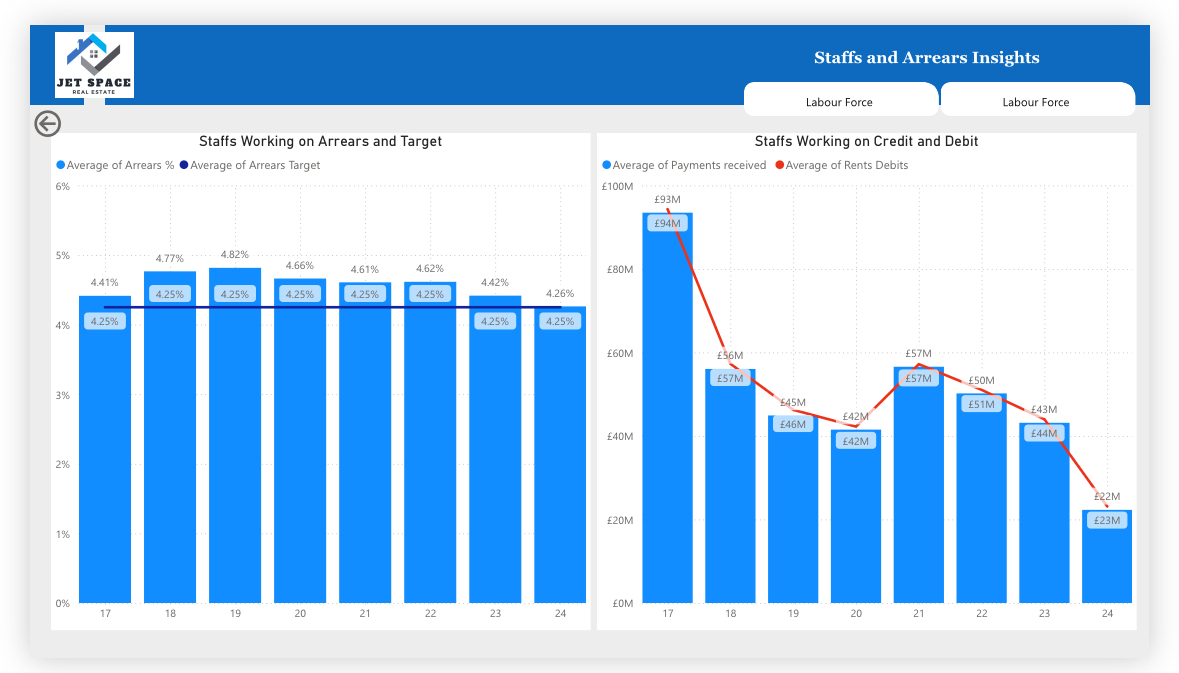

The page's visual inventory and layout, read from the dashboard file:
{"tool":"powerbi","page":{"name":"Insights","canvas":[1280,720],"ordinal":2},"visuals":[{"type":"shape","box":[84.5,0,1195.5,91.6],"z":0},{"type":"textbox","box":[893.4,21.4,372.3,48.8],"z":1000},{"type":"pageNavigator","box":[816.1,66.6,449.7,39.3],"z":2000},{"type":"shape","box":[0,0,61.9,91.6],"z":3000},{"type":"image","box":[22.6,0,99.9,91.6],"z":4000},{"type":"lineStackedColumnComboChart","title":"Staffs Working on Arrears and Target","fields":{"Y":["Avg(JetSpace.Arrears %)"],"Category":["JetSpace.Staff working on arrears"],"Y2":["Avg(JetSpace.Arrears Target )"]},"box":[22.6,123.7,617.4,568.6],"z":5000},{"type":"actionButton","box":[0,91.6,99.9,40.4],"z":6000},{"type":"lineStackedColumnComboChart","title":"Staffs Working on Credit and Debit","fields":{"Category":["JetSpace.Staff working on arrears"],"Y":["Avg(JetSpace.Payments received )"],"Y2":["Avg(JetSpace.Rents Debits)"]},"box":[648.3,123.7,617.4,568.6],"z":7000}]}

Visuals, with their boxes in screenshot pixels (x1, y1, x2, y2), scaled from the page's 1280x720 canvas onto the 1179x673 screenshot:
shape: 78, 0, 1178, 86
textbox: 823, 20, 1166, 66
pageNavigator: 752, 62, 1166, 99
shape: 0, 0, 57, 86
image: 21, 0, 113, 86
"Staffs Working on Arrears and Target" lineStackedColumnComboChart: 21, 116, 590, 647
actionButton: 0, 86, 92, 123
"Staffs Working on Credit and Debit" lineStackedColumnComboChart: 597, 116, 1166, 647
